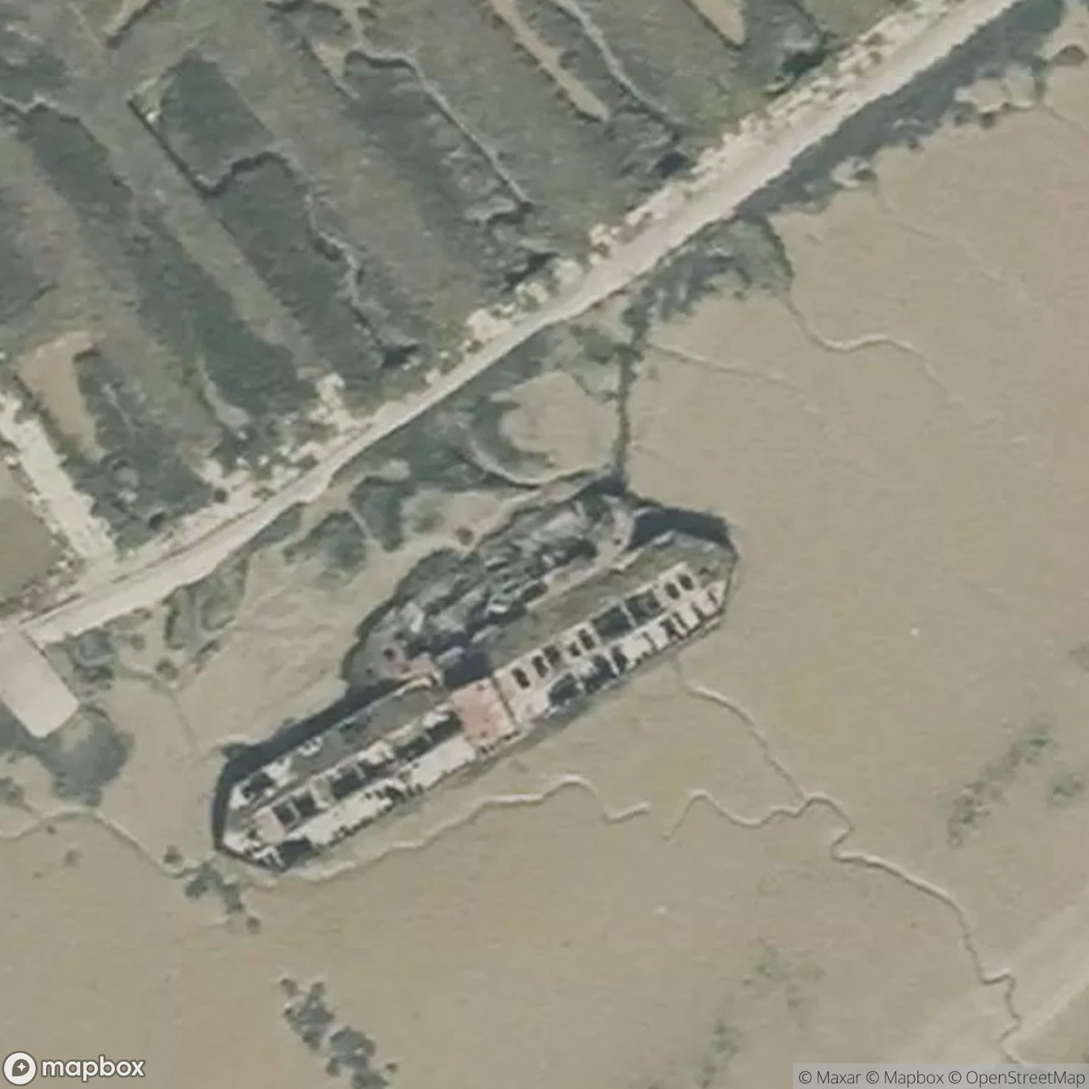Wreck: (47, 689, 818, 1048)
